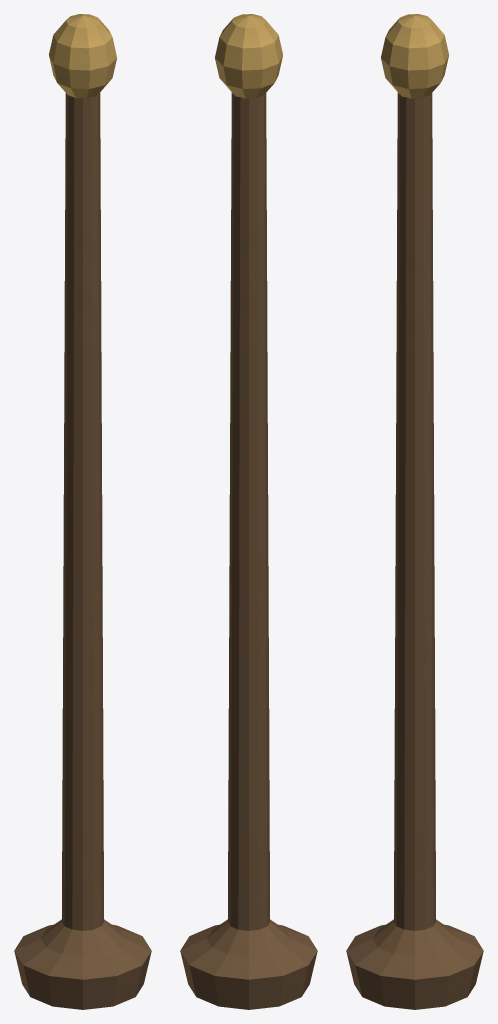
File: SM_WC_Flagpole.fbx
3 renders of one model, left to right at view 1: azimuth 30°, elevation 25°; view 2: azimuth 150°, elevation 25°; view 3: azimuth 330°, elevation 25°, orthographic.
Visible parts, largest first — view 1: SM_WC_Flagpole; view 2: SM_WC_Flagpole; view 3: SM_WC_Flagpole.
Boxes of the visible parts, x1,y1,x2,y2 form: SM_WC_Flagpole: (14, 14, 151, 1009); SM_WC_Flagpole: (180, 14, 317, 1009); SM_WC_Flagpole: (346, 14, 483, 1009).
Size of the model in its own units: 0.52 by 0.52 by 4.04.
